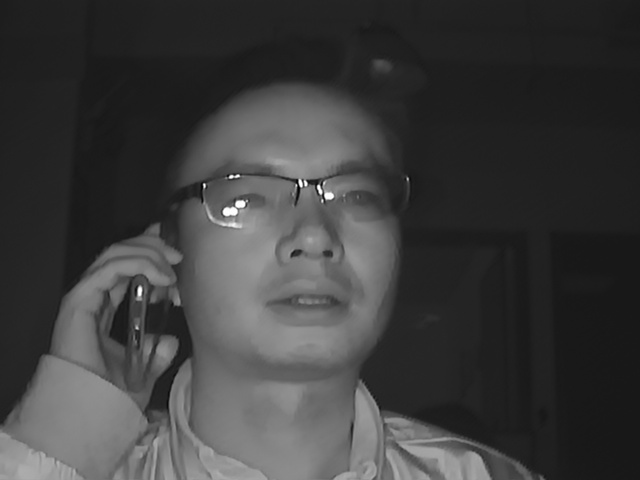hand: (60, 230, 186, 396)
